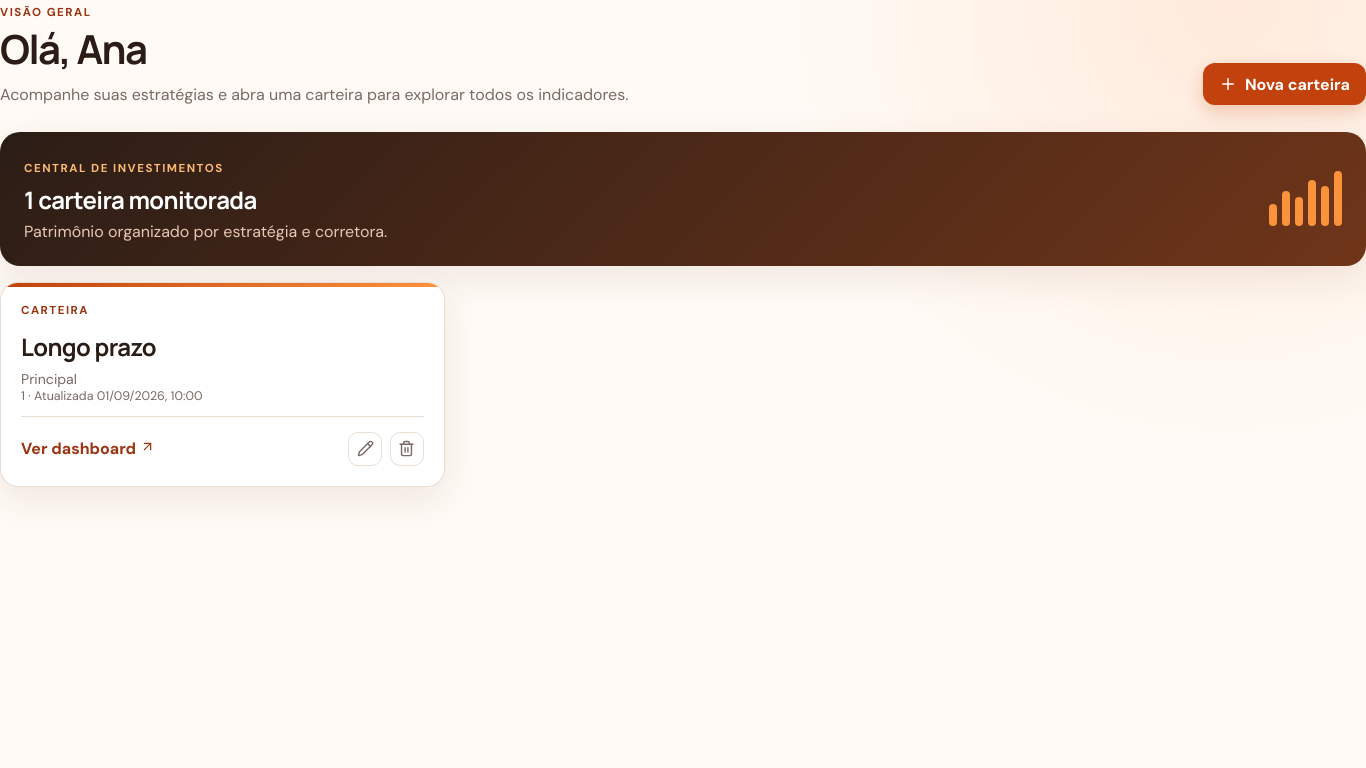
Test: mantém o formulário aberto e os valores quando a edição falha
This screenshot has width=1366, height=768.
Click the button named "Editar Longo prazo".
click(366, 449)  # box x1=348 y1=432 x2=382 y2=466
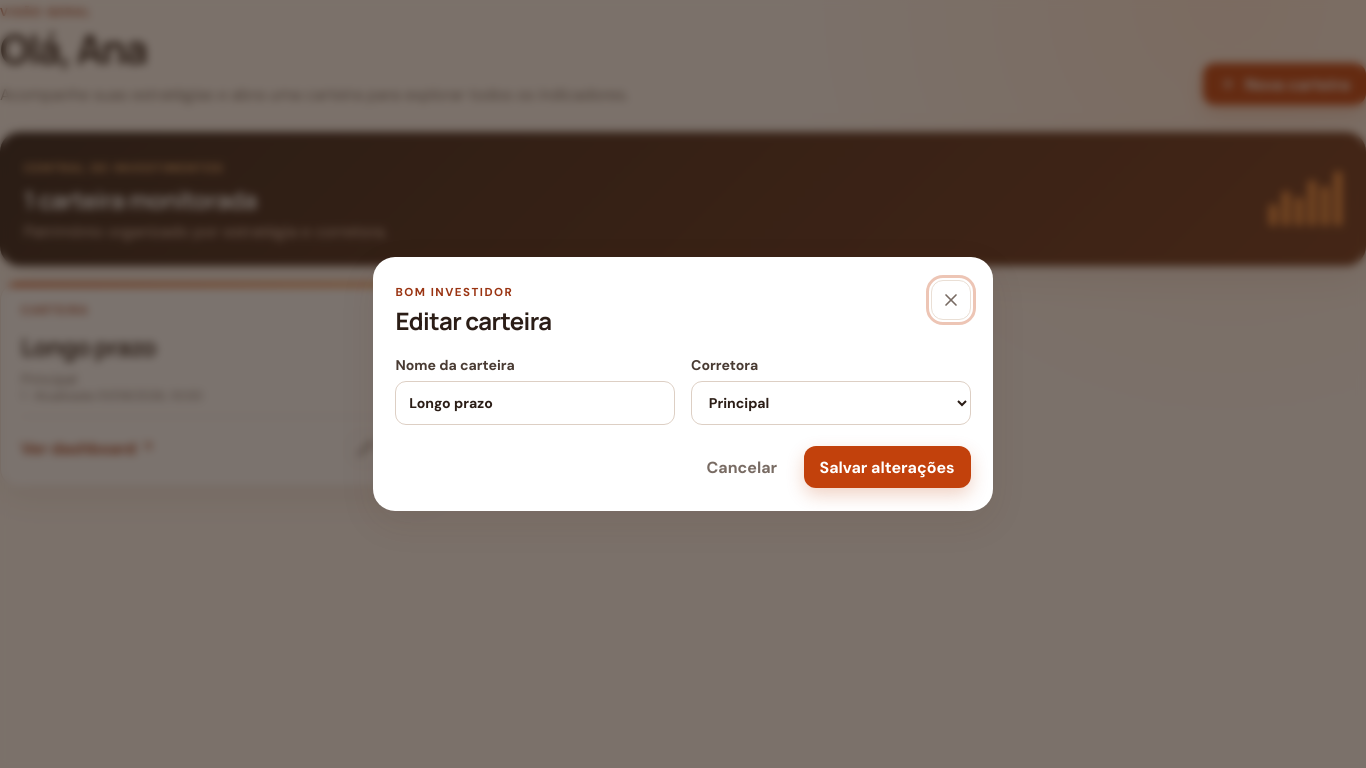
Replace the text in the field labelled "Nome da carteira" with "Duplicada" at (535, 403), box x1=395 y1=381 x2=675 y2=425
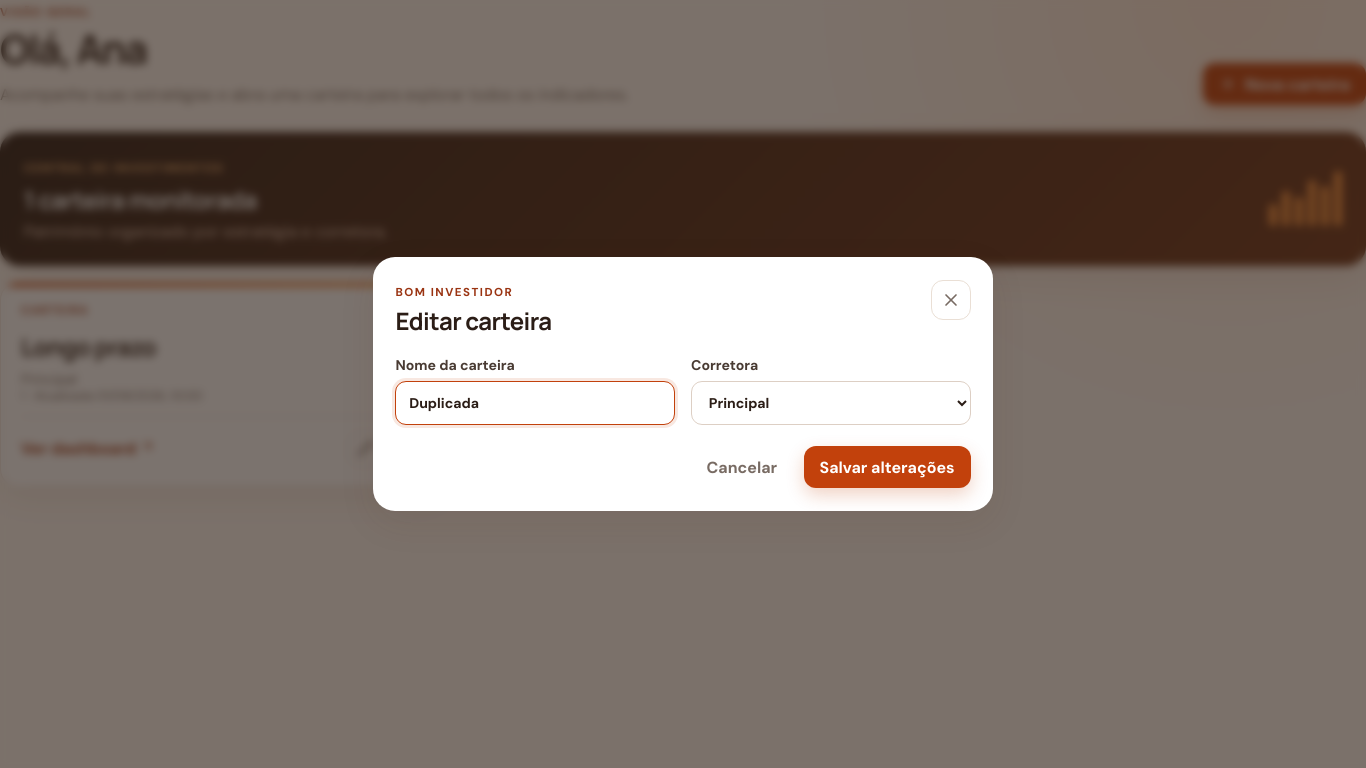
Click the button "Salvar alterações".
click(887, 467)  # box x1=804 y1=446 x2=971 y2=488
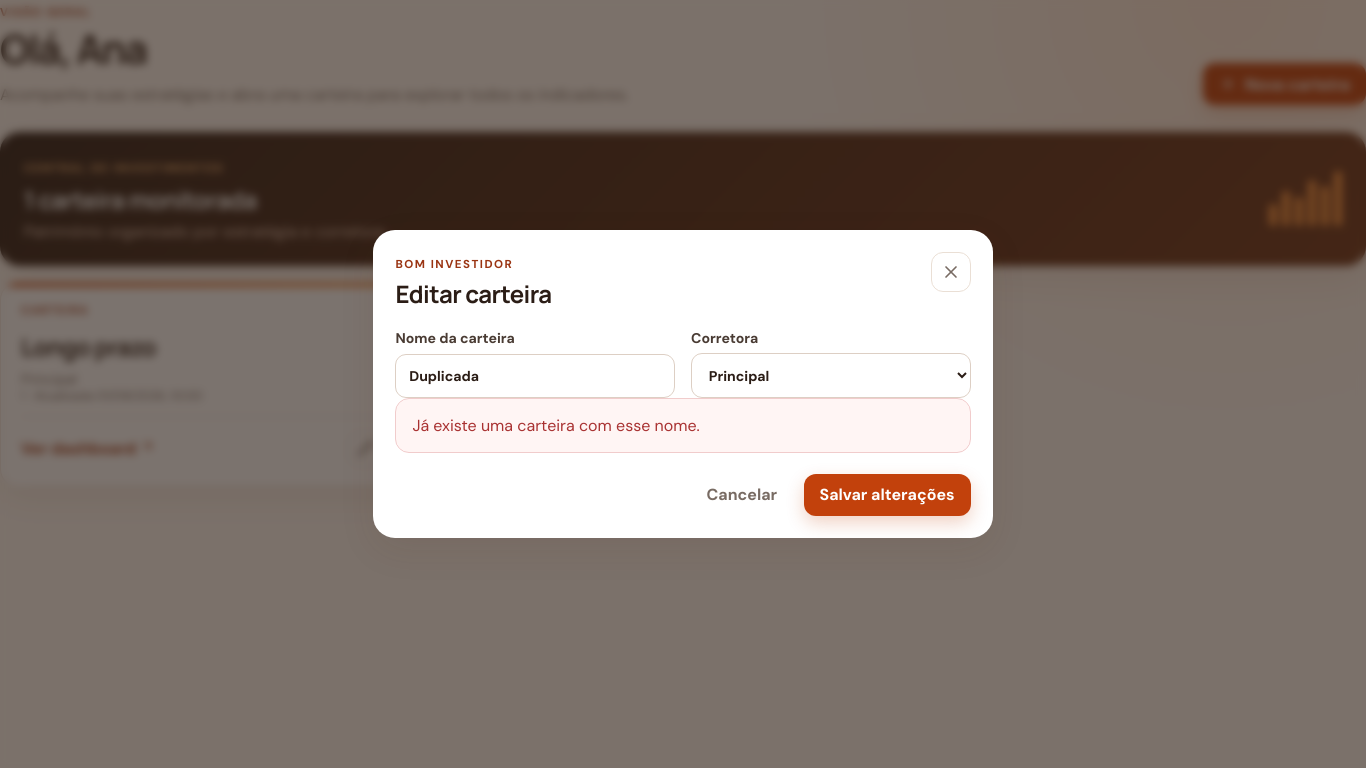
expect the dialog is shown: met, box x1=373 y1=230 x2=993 y2=538
expect the message reads "Já existe uma carteira com esse nome.": met, box x1=412 y1=415 x2=700 y2=436
